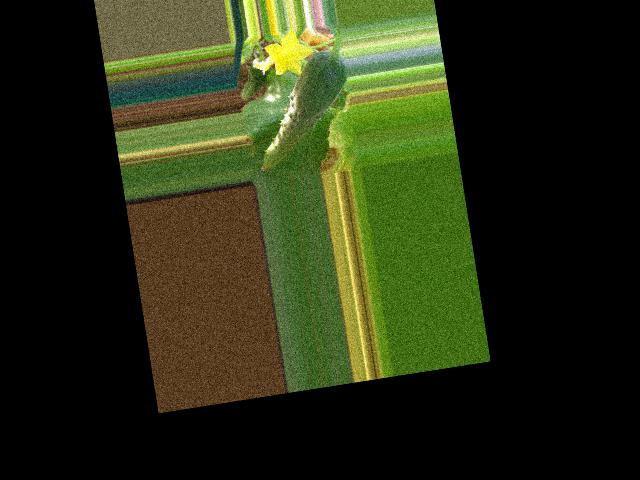cucumber: (244, 47, 360, 172)
